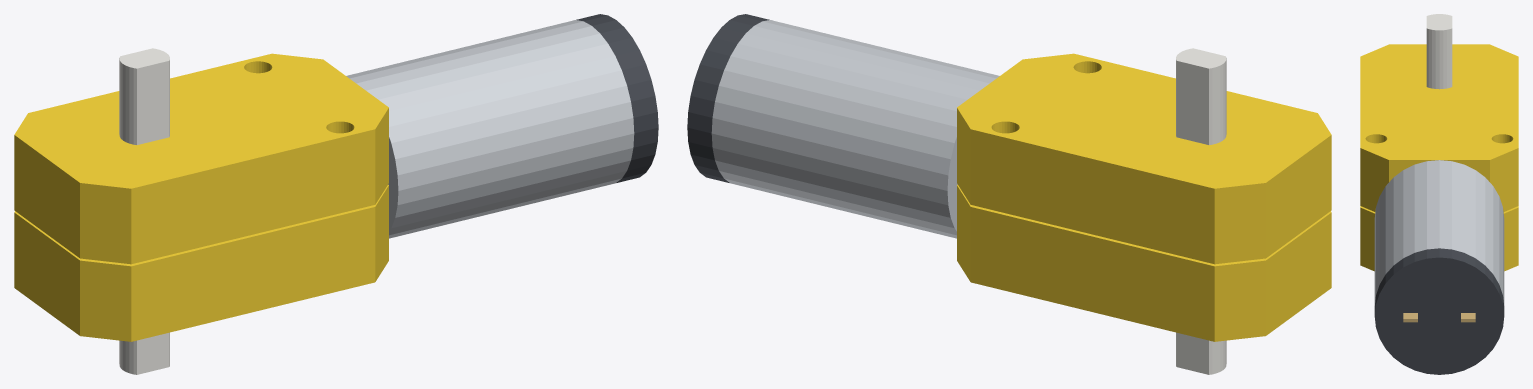
Rendered from model_display.glb.
3 views of the same model, side by side, from view 1: azimuth 30°, elevation 25°; view 2: azimuth 150°, elevation 25°; view 3: azimuth 270°, elevation 25° (orthographic). The views are drawn at different scales.
Visible parts, largest first — view 1: housing_half_1, motor_can, housing_half_0, output_shaft, motor_end_cap, opposite_output_shaft; view 2: housing_half_1, motor_can, housing_half_0, output_shaft, motor_end_cap, opposite_output_shaft; view 3: housing_half_1, motor_end_cap, motor_can, output_shaft, housing_half_0, terminal_-4, terminal_4.
Boxes of the visible parts, bbox=[...] form: housing_half_1: bbox=[14, 53, 388, 264]; motor_can: bbox=[346, 20, 634, 238]; housing_half_0: bbox=[14, 184, 388, 341]; output_shaft: bbox=[119, 48, 169, 144]; motor_end_cap: bbox=[576, 14, 658, 182]; opposite_output_shaft: bbox=[119, 332, 169, 374]; housing_half_1: bbox=[957, 53, 1331, 264]; motor_can: bbox=[711, 20, 999, 238]; housing_half_0: bbox=[957, 184, 1331, 341]; output_shaft: bbox=[1176, 48, 1226, 144]; motor_end_cap: bbox=[687, 14, 769, 182]; opposite_output_shaft: bbox=[1176, 332, 1226, 374]; housing_half_1: bbox=[1360, 44, 1518, 211]; motor_end_cap: bbox=[1374, 248, 1504, 374]; motor_can: bbox=[1374, 160, 1504, 305]; output_shaft: bbox=[1426, 14, 1452, 89]; housing_half_0: bbox=[1360, 206, 1518, 271]; terminal_-4: bbox=[1403, 313, 1417, 322]; terminal_4: bbox=[1461, 313, 1475, 322].
Size of the model in its own units: 0.072 by 0.036 by 0.022.
